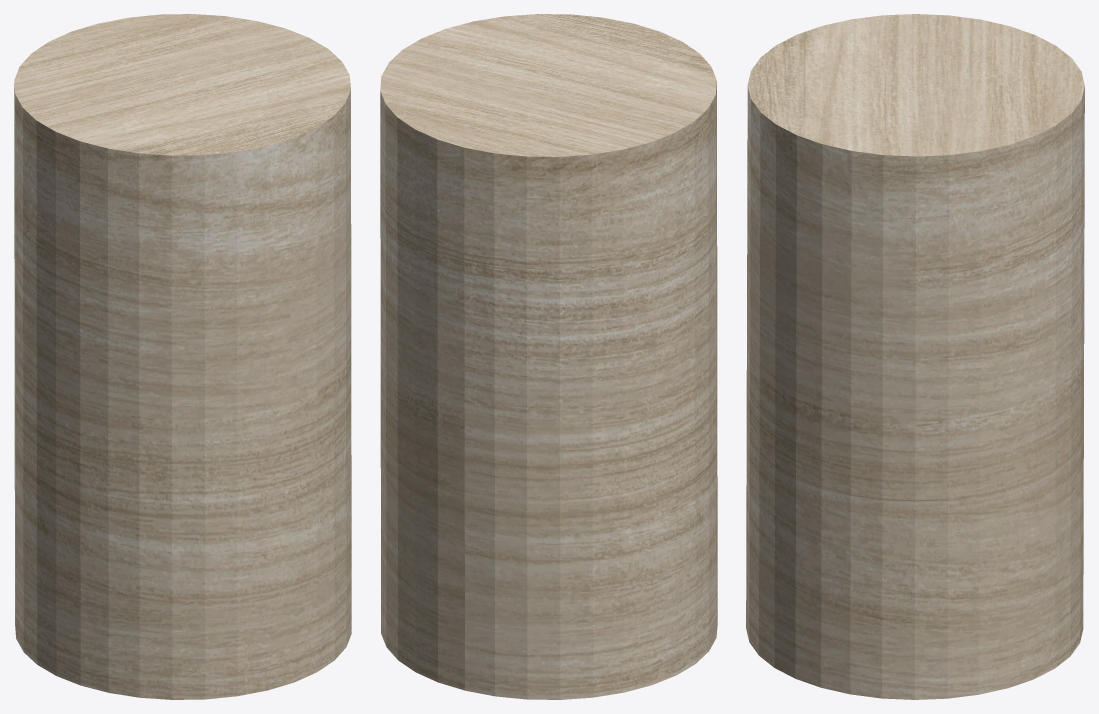
Rendered from modeling04.glb.
3 renders of one model, left to right at view 1: azimuth 30°, elevation 25°; view 2: azimuth 150°, elevation 25°; view 3: azimuth 270°, elevation 25°, orthographic.
Visible parts, largest first — view 1: 실린더.001; view 2: 실린더.001; view 3: 실린더.001.
Boxes of the visible parts, bbox=[...] form: 실린더.001: bbox=[14, 14, 351, 699]; 실린더.001: bbox=[380, 14, 717, 699]; 실린더.001: bbox=[746, 14, 1084, 699].
Size of the model in its own units: 0.7803 by 1.39 by 0.784.
Materials: 1 (1 with a texture image).
